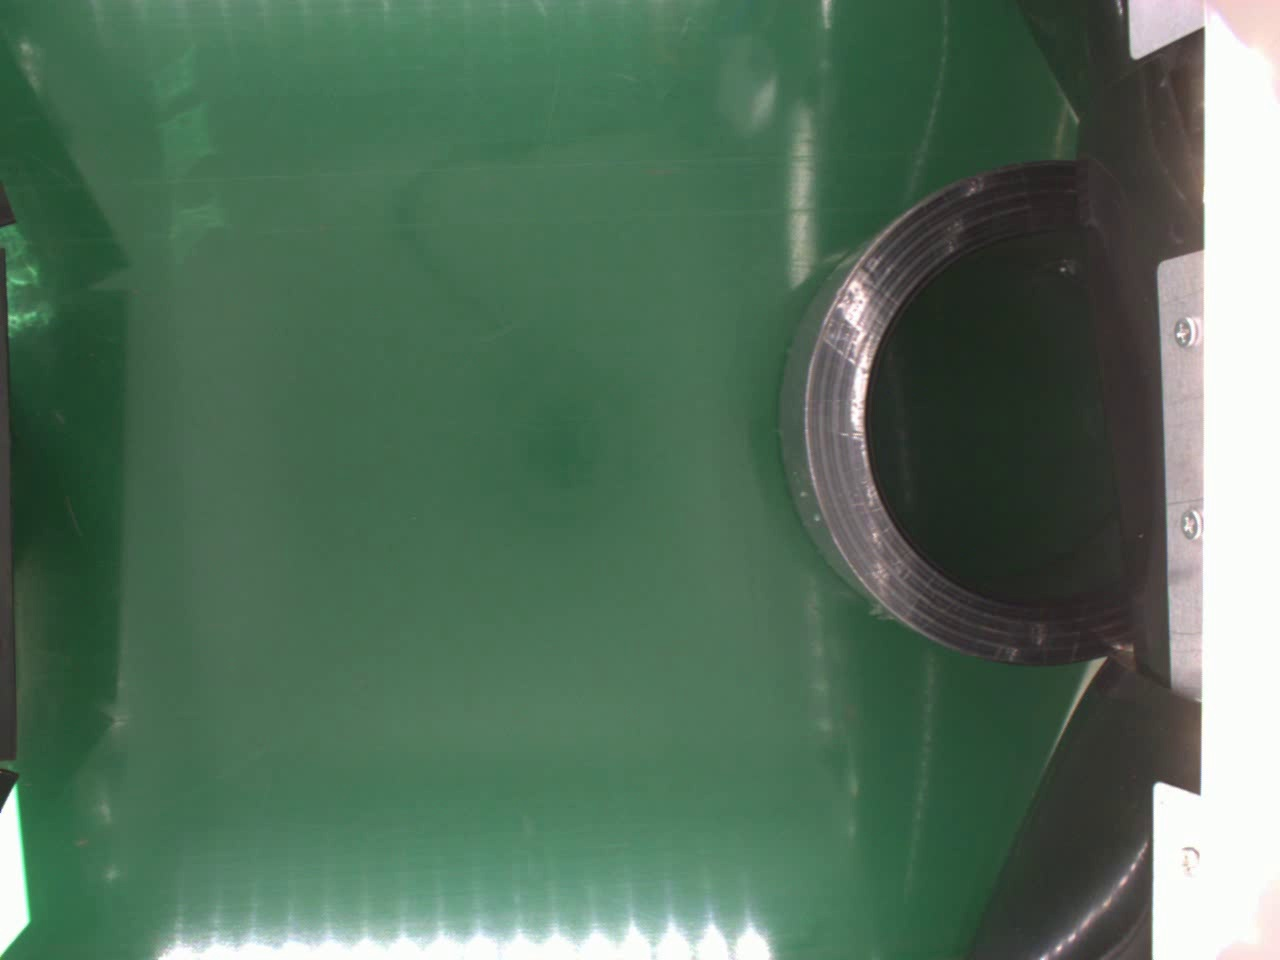black: (774, 160, 1139, 666)
